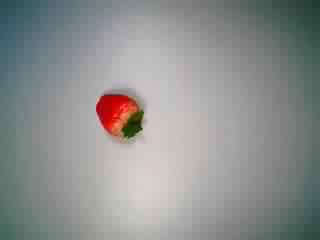strawberry: (84, 83, 149, 145)
